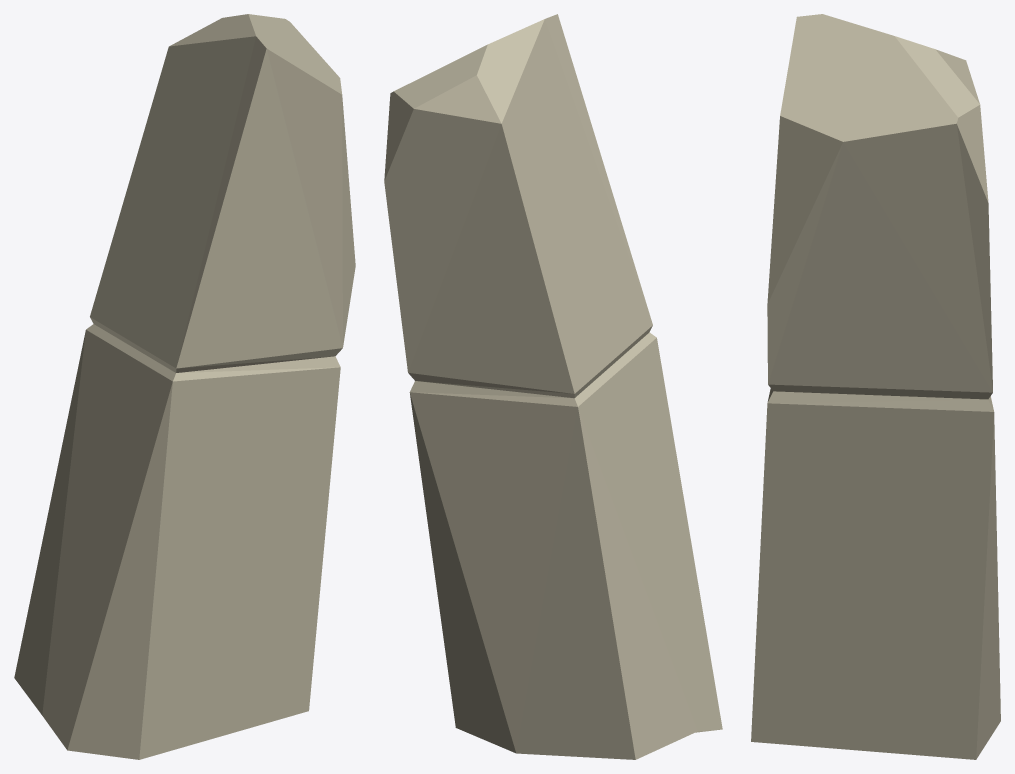
File: Rock_Square_l_13.fbx
3 renders of one model, left to right at view 1: azimuth 30°, elevation 25°; view 2: azimuth 150°, elevation 25°; view 3: azimuth 270°, elevation 25°, orthographic. The views are drawn at different scales.
Parts seen in each view (by area): view 1: Rock_Square_l_13; view 2: Rock_Square_l_13; view 3: Rock_Square_l_13.
Boxes of the visible parts, x1,y1,x2,y2 form: Rock_Square_l_13: (14,14,355,759); Rock_Square_l_13: (384,14,722,759); Rock_Square_l_13: (751,14,1000,759).
Bounding box in the file's own units: 2.02 × 4.64 × 1.43.
